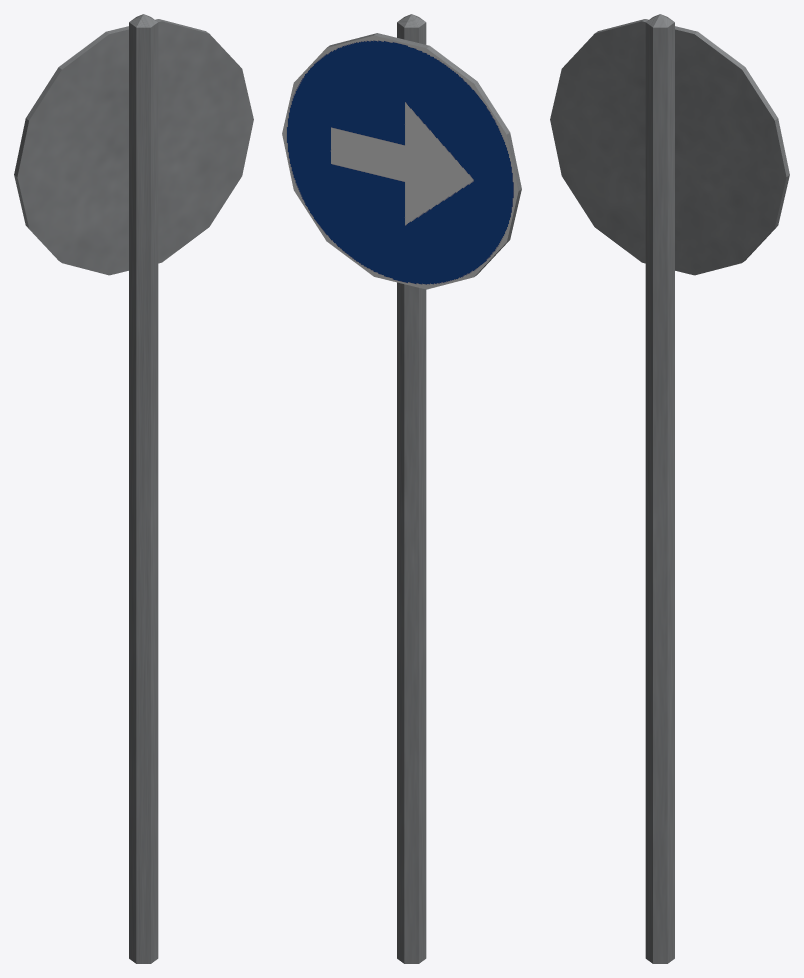
Rendered from SM_Morin_CartelloObbligoDestra_LOD1.fbx.
The picture shows the model from 3 angles, left to right: view 1: azimuth 30°, elevation 25°; view 2: azimuth 150°, elevation 25°; view 3: azimuth 330°, elevation 25°; orthographic projection.
Visible parts, largest first — view 1: SM_Morin_CartelloObbligoDestra_LOD1; view 2: SM_Morin_CartelloObbligoDestra_LOD1; view 3: SM_Morin_CartelloObbligoDestra_LOD1.
Boxes of the visible parts, bbox=[...] form: SM_Morin_CartelloObbligoDestra_LOD1: bbox=[14, 14, 253, 963]; SM_Morin_CartelloObbligoDestra_LOD1: bbox=[282, 14, 521, 963]; SM_Morin_CartelloObbligoDestra_LOD1: bbox=[550, 14, 789, 963].
Size of the model in its own units: 60 by 8.2 by 229.
Materials: 1 (1 with a texture image).
